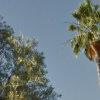Palm tree: (65, 2, 100, 90)
